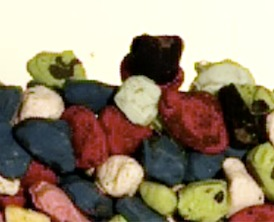black: (215, 84, 268, 149), (120, 37, 178, 85)
blue: (9, 118, 79, 174), (142, 136, 186, 184), (64, 178, 113, 218), (64, 81, 114, 113), (186, 151, 222, 180)
green: (113, 75, 164, 126), (22, 50, 87, 87), (191, 58, 253, 91), (178, 180, 226, 222), (136, 181, 177, 216), (237, 85, 274, 115)
pink: (24, 182, 87, 222)
red: (157, 88, 227, 152), (62, 107, 106, 169), (99, 106, 153, 155), (19, 162, 56, 188)
white: (221, 156, 263, 216), (95, 154, 142, 197), (14, 85, 65, 122)
